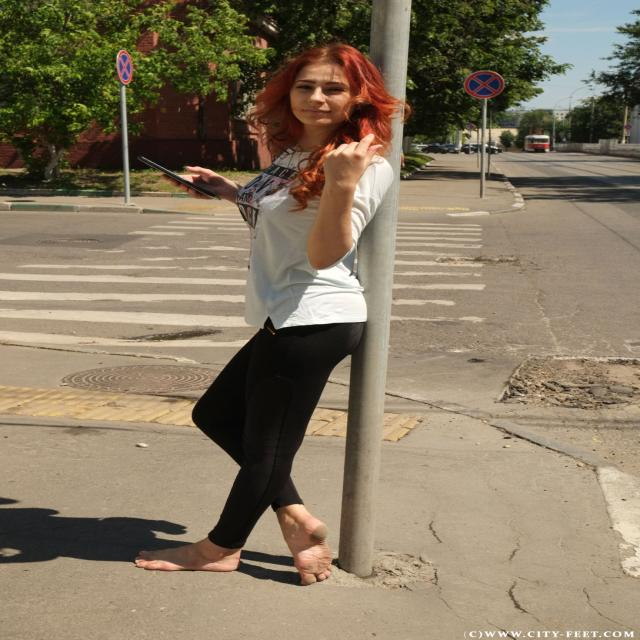Barefoots: (134, 544, 242, 572), (294, 518, 333, 585)
